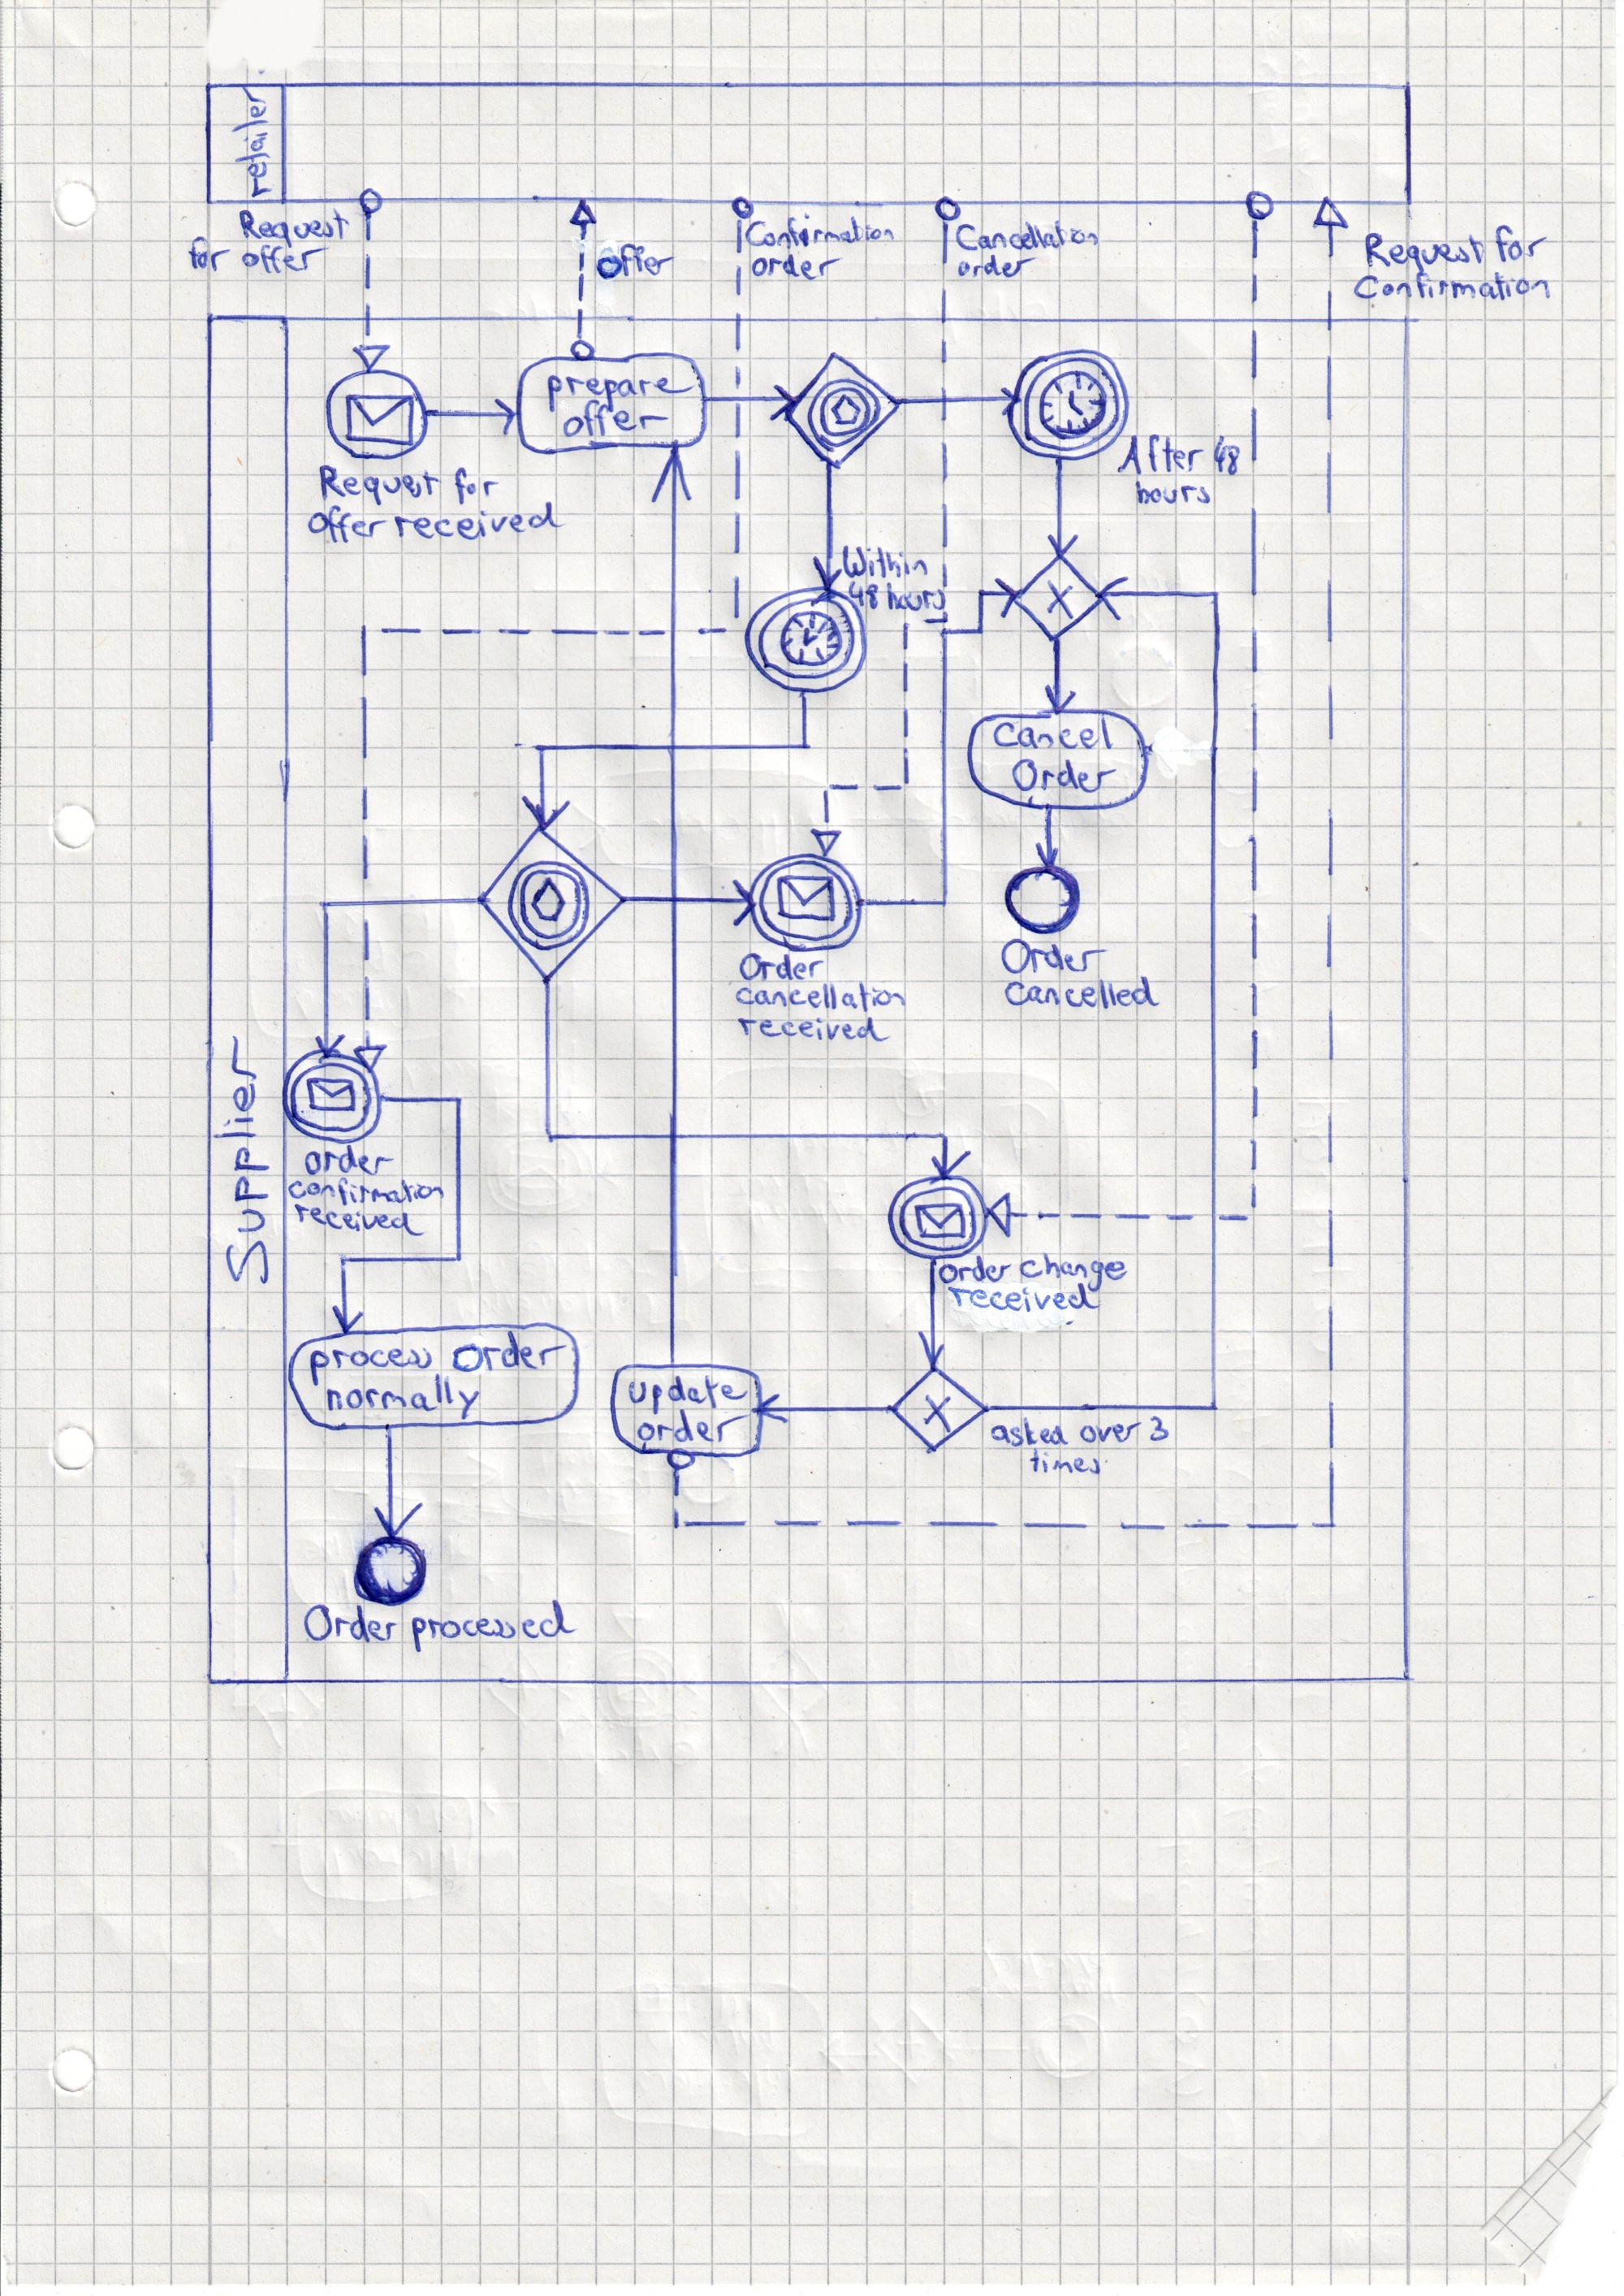3: (1144, 1419, 1174, 1442)
48: (1197, 432, 1257, 480), (842, 582, 879, 617)
After: (1120, 424, 1195, 478)
Cancel: (986, 710, 1120, 751)
Change: (1026, 1250, 1125, 1285)
Confirmation: (1353, 265, 1552, 304), (740, 213, 900, 253)
Offer: (244, 241, 327, 280)
Order: (299, 1602, 402, 1647), (1004, 935, 1107, 974), (1018, 758, 1111, 793), (736, 956, 828, 983)
Request: (315, 461, 434, 508), (236, 200, 355, 246), (1362, 225, 1480, 267)
Supplier: (214, 1035, 271, 1285)
Within: (831, 547, 933, 584)
asked: (986, 1410, 1070, 1445)
cancellation: (949, 214, 1098, 257), (740, 983, 898, 1014)
cancelled: (1005, 977, 1158, 1013)
confirmation: (292, 1174, 438, 1213)
for: (1478, 223, 1561, 269), (439, 464, 504, 505), (181, 237, 232, 278)
hours: (1134, 475, 1209, 512), (886, 578, 944, 619)
normally: (330, 1378, 473, 1420)
offer: (555, 399, 678, 441), (592, 246, 682, 283), (301, 510, 385, 545)
order: (438, 1334, 564, 1375), (937, 244, 1039, 288), (299, 1146, 394, 1183), (642, 1413, 729, 1449), (750, 255, 840, 281), (940, 1252, 1012, 1282)
over: (1070, 1415, 1141, 1449)
prepare: (547, 367, 680, 415)
process: (306, 1334, 434, 1378)
processed: (411, 1595, 573, 1640)
received: (390, 503, 561, 541), (286, 1195, 434, 1239), (953, 1276, 1098, 1320), (740, 1020, 888, 1039)
retailer: (239, 77, 276, 202)
times.: (1023, 1445, 1111, 1486)
update: (620, 1371, 743, 1406)
